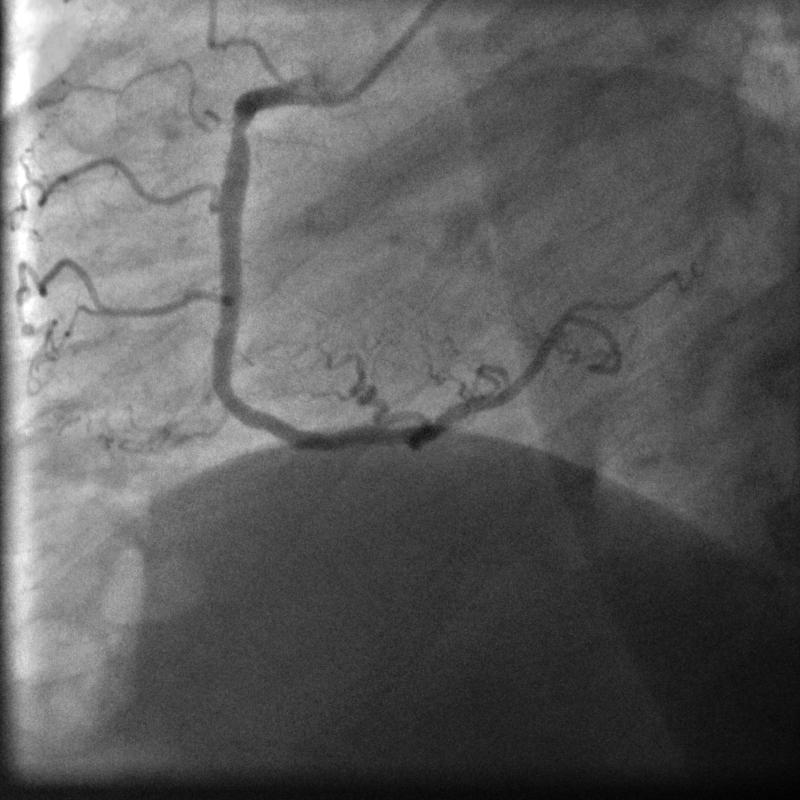Stenosis: (228, 99, 253, 159)
